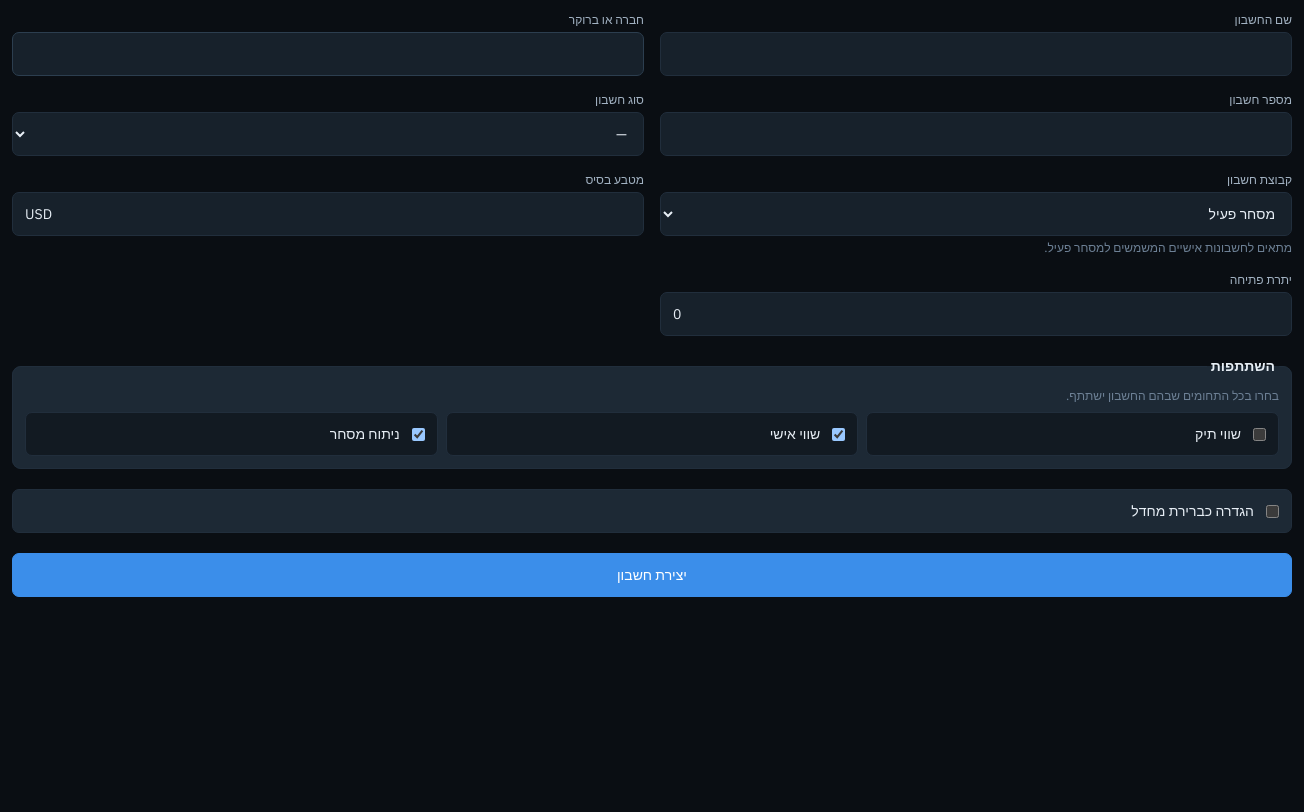
Test: Accounts expansion UI › validates currency, keeps values after failure, and renders Hebrew labels
Step 1. Replace the text in the field labelled "מטבע בסיס" with "US" → (328, 214), box [12, 192, 644, 236]
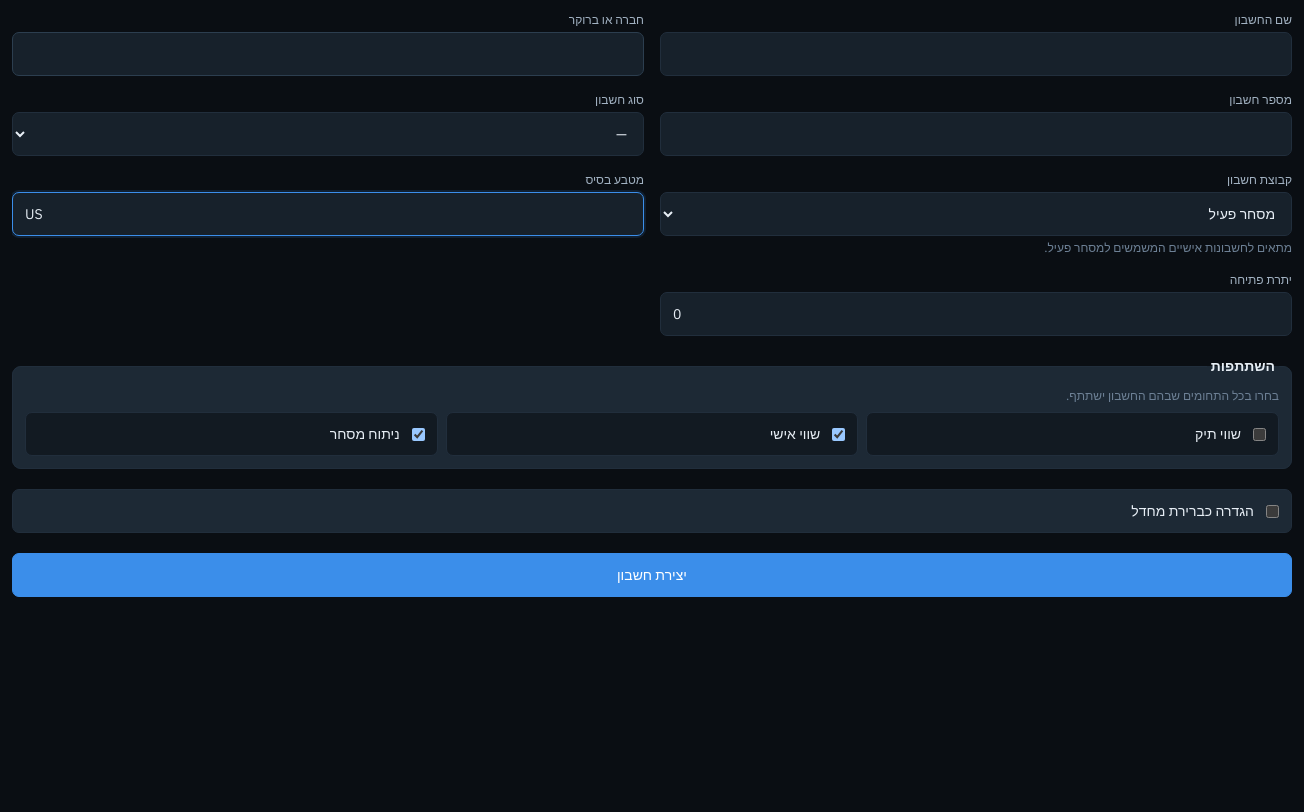
Step 2. Click the button "יצירת חשבון" → (652, 575), box [12, 553, 1292, 597]
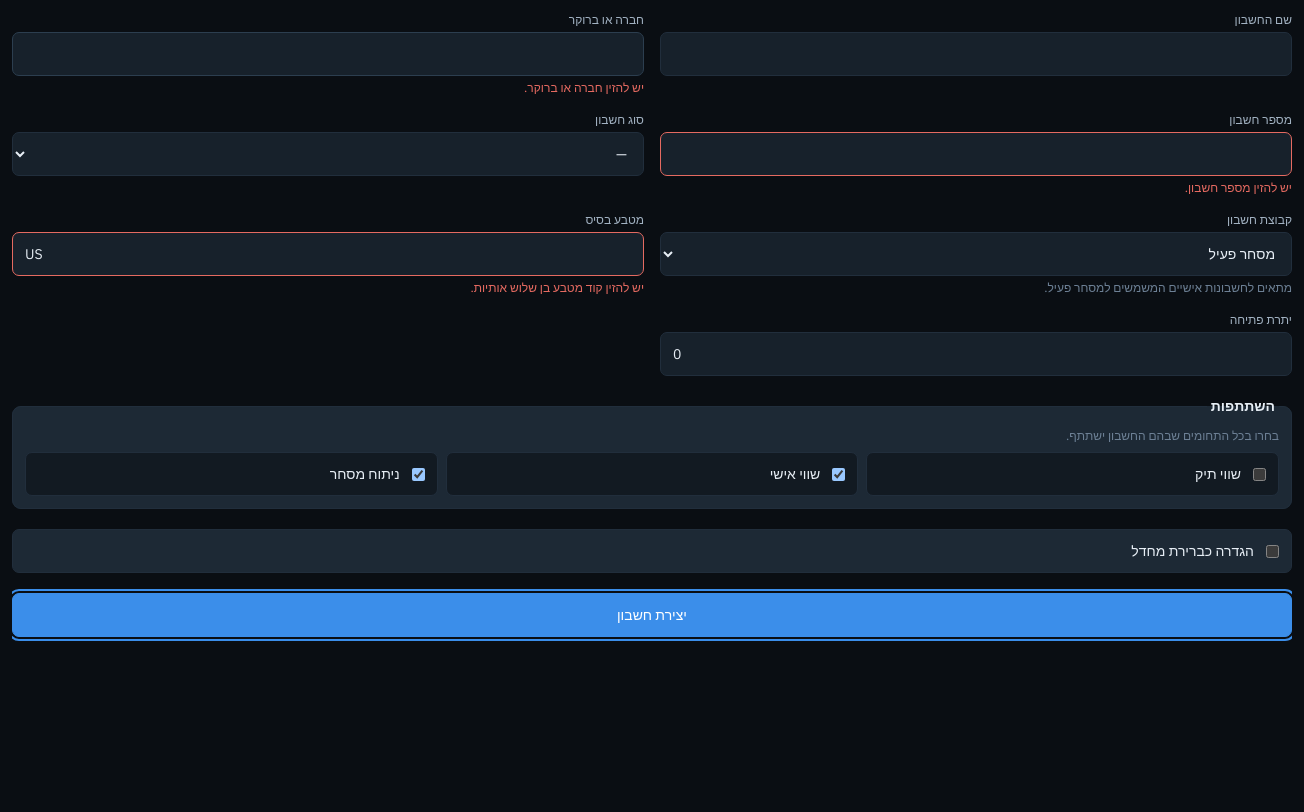
expect the text "יש להזין קוד מטבע בן שלוש אותיות." is shown: met, box [470, 280, 644, 295]
